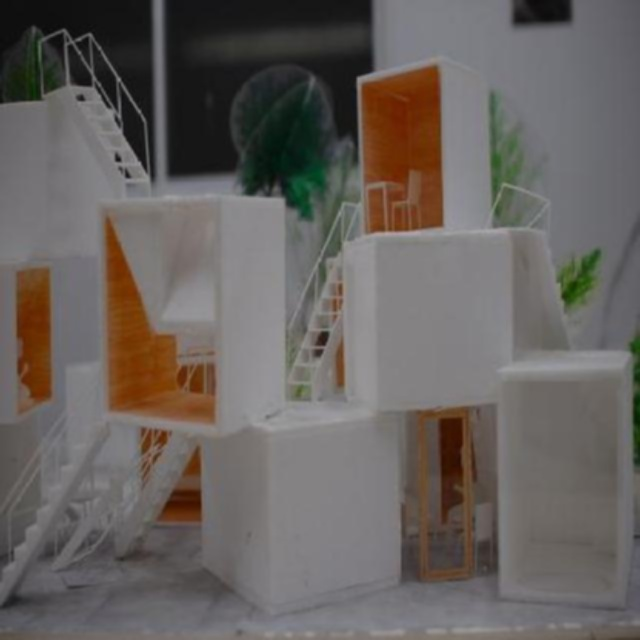stair: (0, 406, 109, 602), (47, 86, 150, 202), (112, 423, 197, 557), (289, 257, 345, 400)
